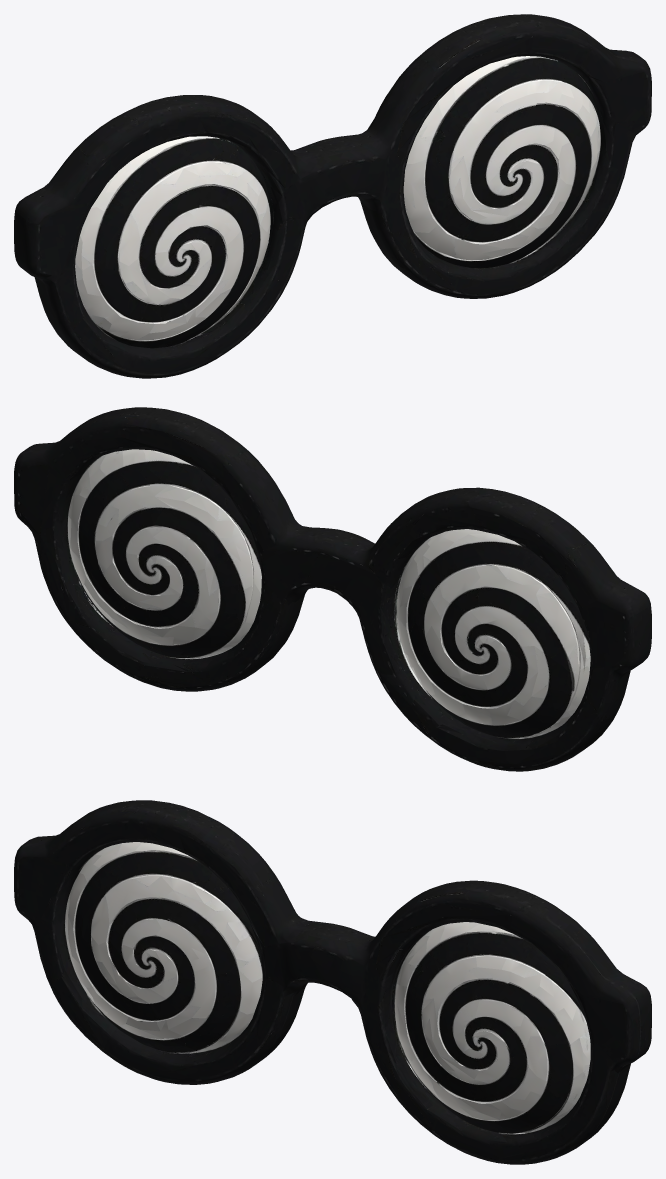
The model's file is xray_specs.glb.
3 views of the same model, one above another, from view 1: azimuth 30°, elevation 25°; view 2: azimuth 150°, elevation 25°; view 3: azimuth 330°, elevation 25° (orthographic).
Parts seen in each view (by area): view 1: Mesh_0; view 2: Mesh_0; view 3: Mesh_0.
Part boxes in pixels (x1,y1,x2,y2): Mesh_0: (14,14,651,378); Mesh_0: (14,407,651,771); Mesh_0: (14,800,651,1164).
Size of the model in its own units: 1 by 0.4103 by 0.0917.
Materials: 1 (1 with a texture image).
